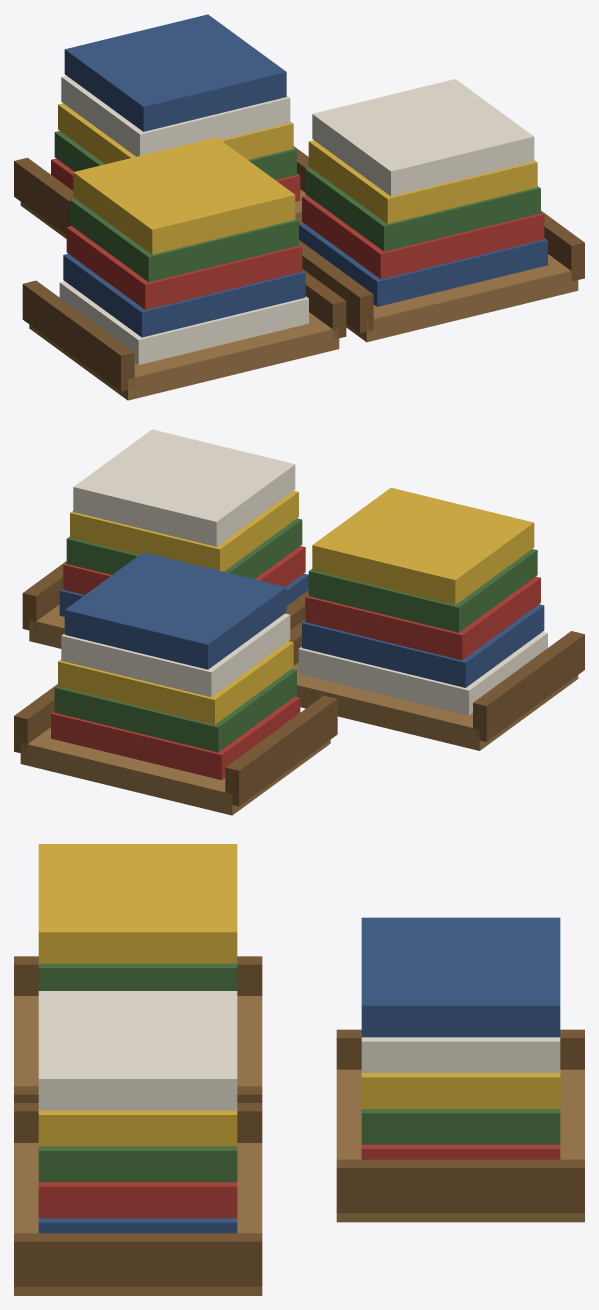
The model's file is pile_clothes_3.glb.
3 renders of one model, top to bottom at view 1: azimuth 30°, elevation 25°; view 2: azimuth 150°, elevation 25°; view 3: azimuth 270°, elevation 25°, orthographic. The views are drawn at different scales.
Parts seen in each view (by area): view 1: pile_clothes_3; view 2: pile_clothes_3; view 3: pile_clothes_3.
Boxes of the visible parts, <box> form: pile_clothes_3: <box>14,14,584,400</box>; pile_clothes_3: <box>14,429,584,815</box>; pile_clothes_3: <box>14,844,584,1295</box>.
Bounding box in the file's own units: 1.36 × 0.435 × 1.15.
